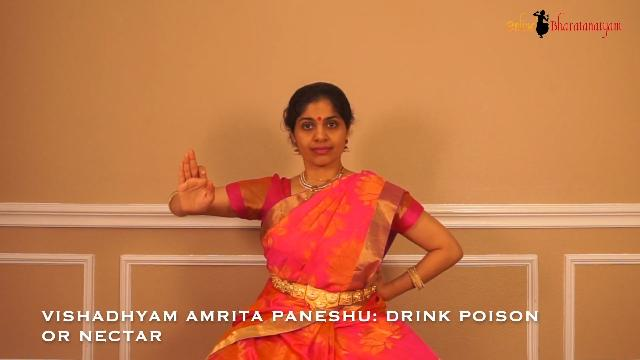aral: (172, 146, 226, 241)
